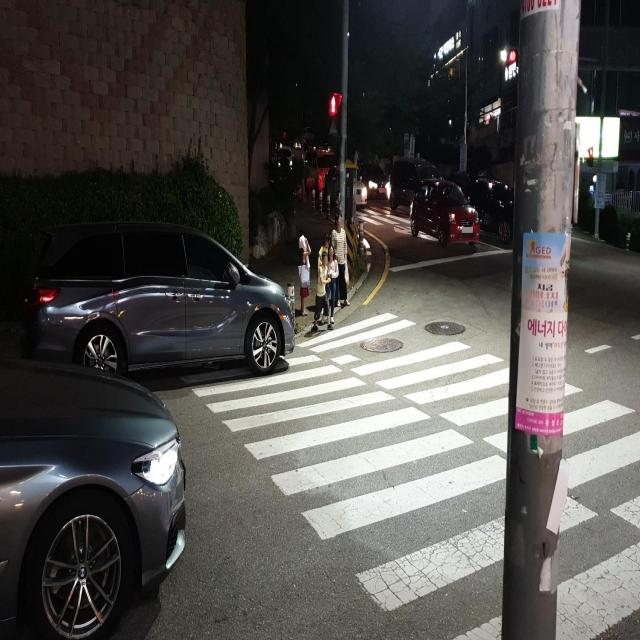빨간불: (327, 90, 342, 138)
횡단보도: (180, 312, 640, 640)
